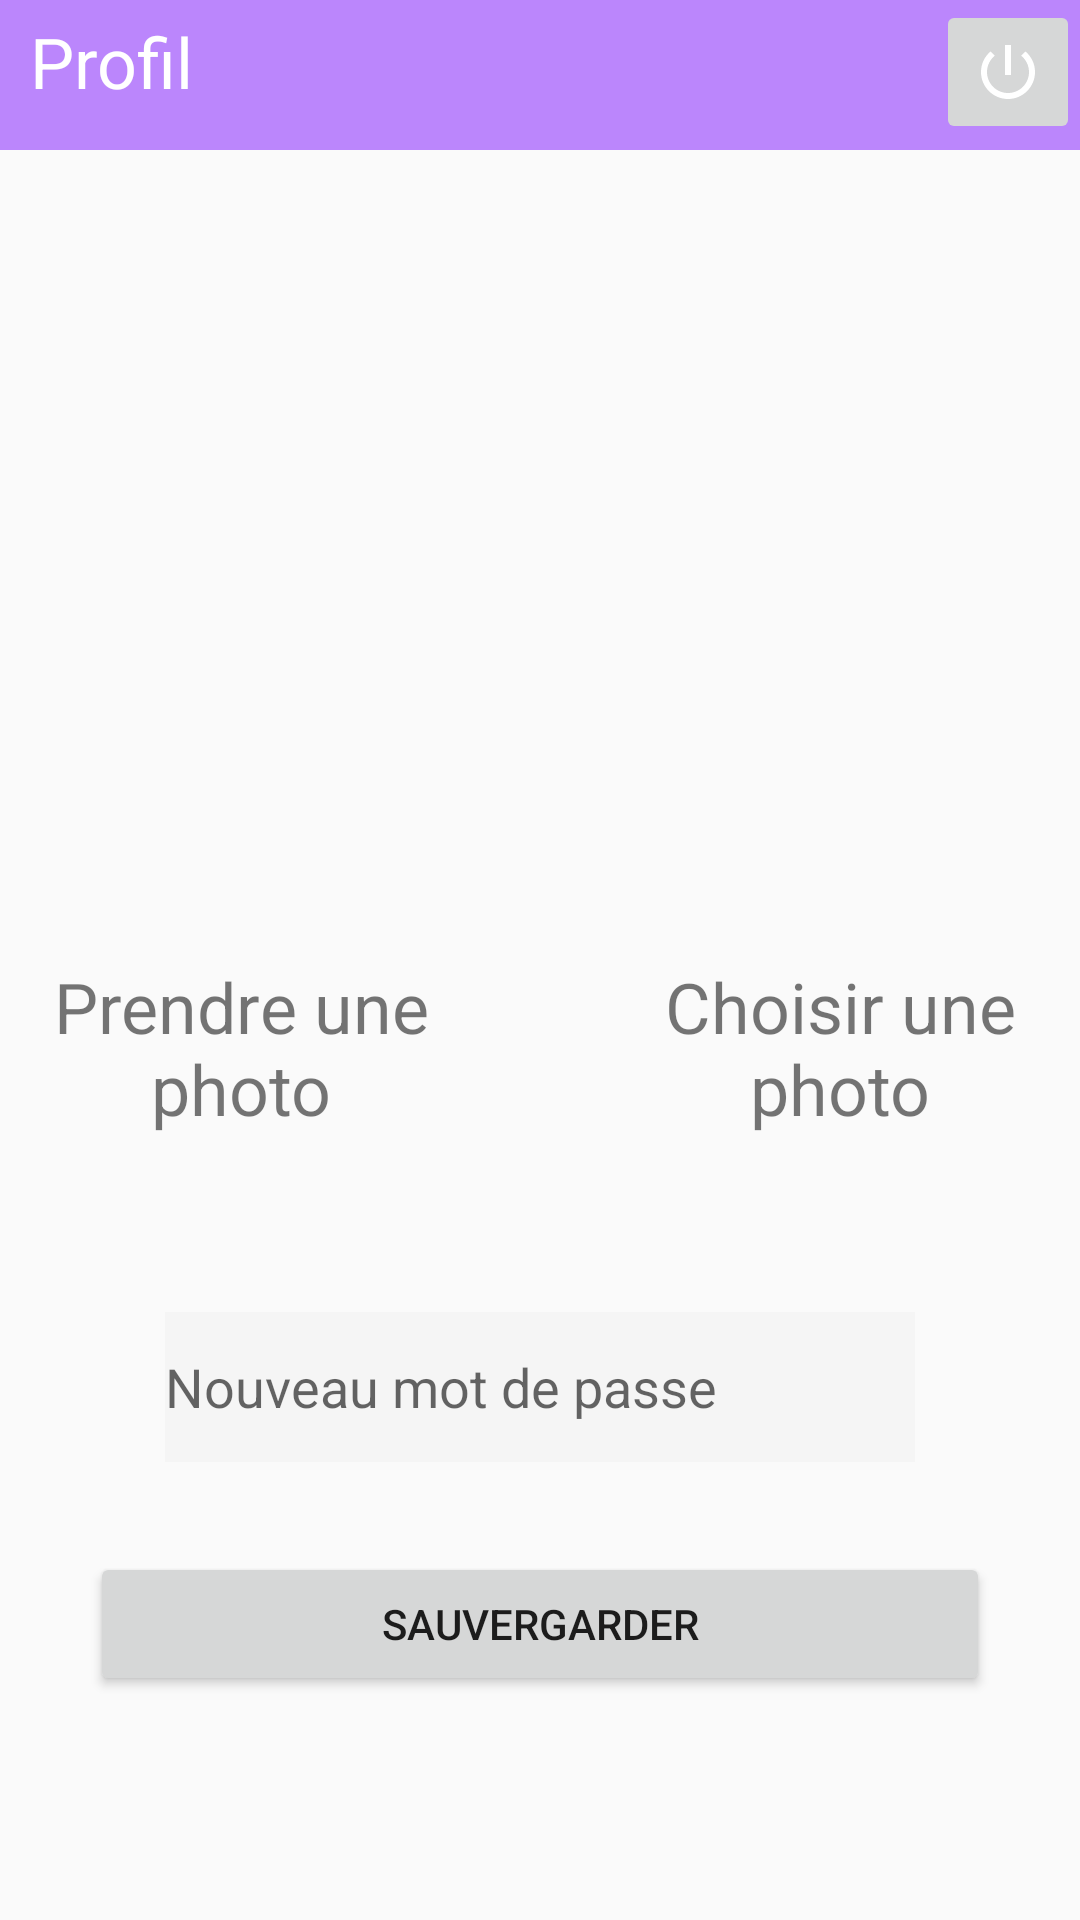

Where to tap for icons on this 1080px x 1920px app screen, as (x,y):
power: (1008,72)
